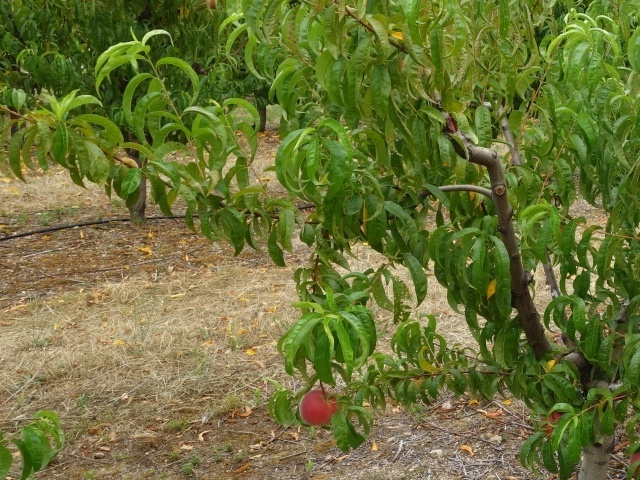peach: (296, 386, 343, 431)
